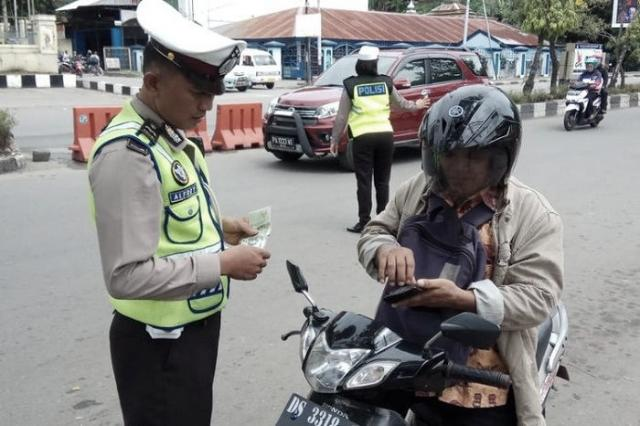helm: (420, 78, 527, 200)
motor: (276, 254, 575, 426)
